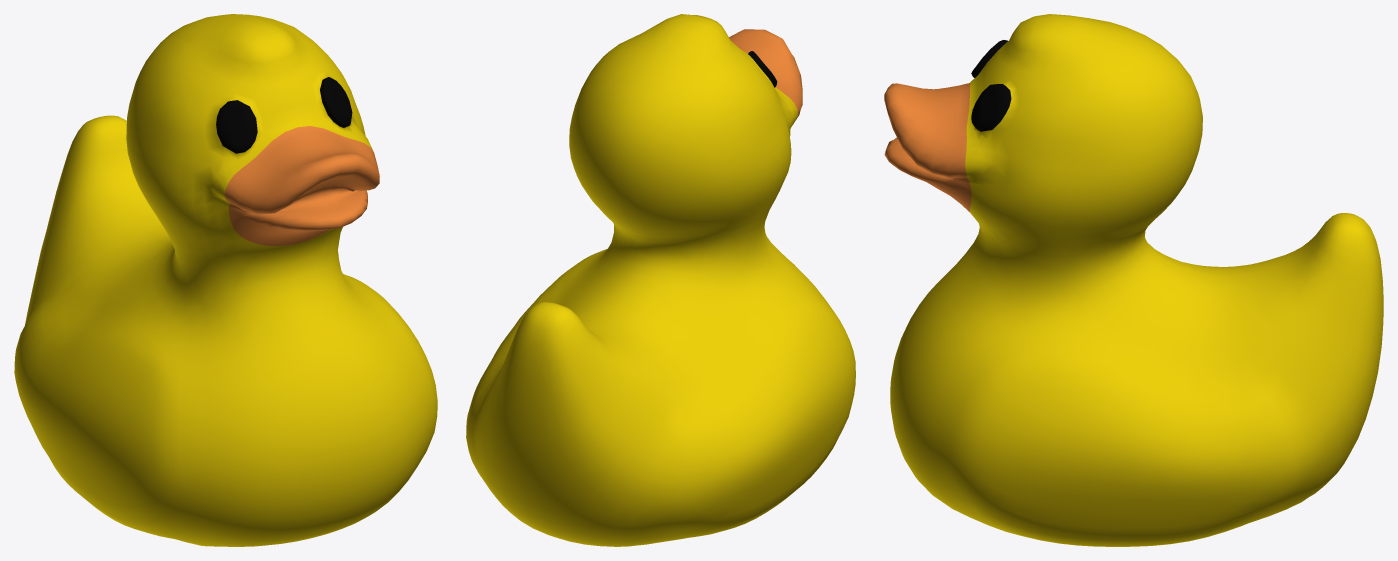
Rendered from ducky.fbx.
The picture shows the model from 3 angles, left to right: view 1: azimuth 30°, elevation 25°; view 2: azimuth 150°, elevation 25°; view 3: azimuth 270°, elevation 25°; orthographic projection. The views are drawn at different scales.
Visible parts, largest first — view 1: Retopo_Rubber_Duck; view 2: Retopo_Rubber_Duck; view 3: Retopo_Rubber_Duck.
Boxes of the visible parts, x1,y1,x2,y2 form: Retopo_Rubber_Duck: (14,14,437,546); Retopo_Rubber_Duck: (466,14,855,546); Retopo_Rubber_Duck: (884,14,1383,546).
Size of the model in its own units: 7.36 by 10.59 by 10.04.
